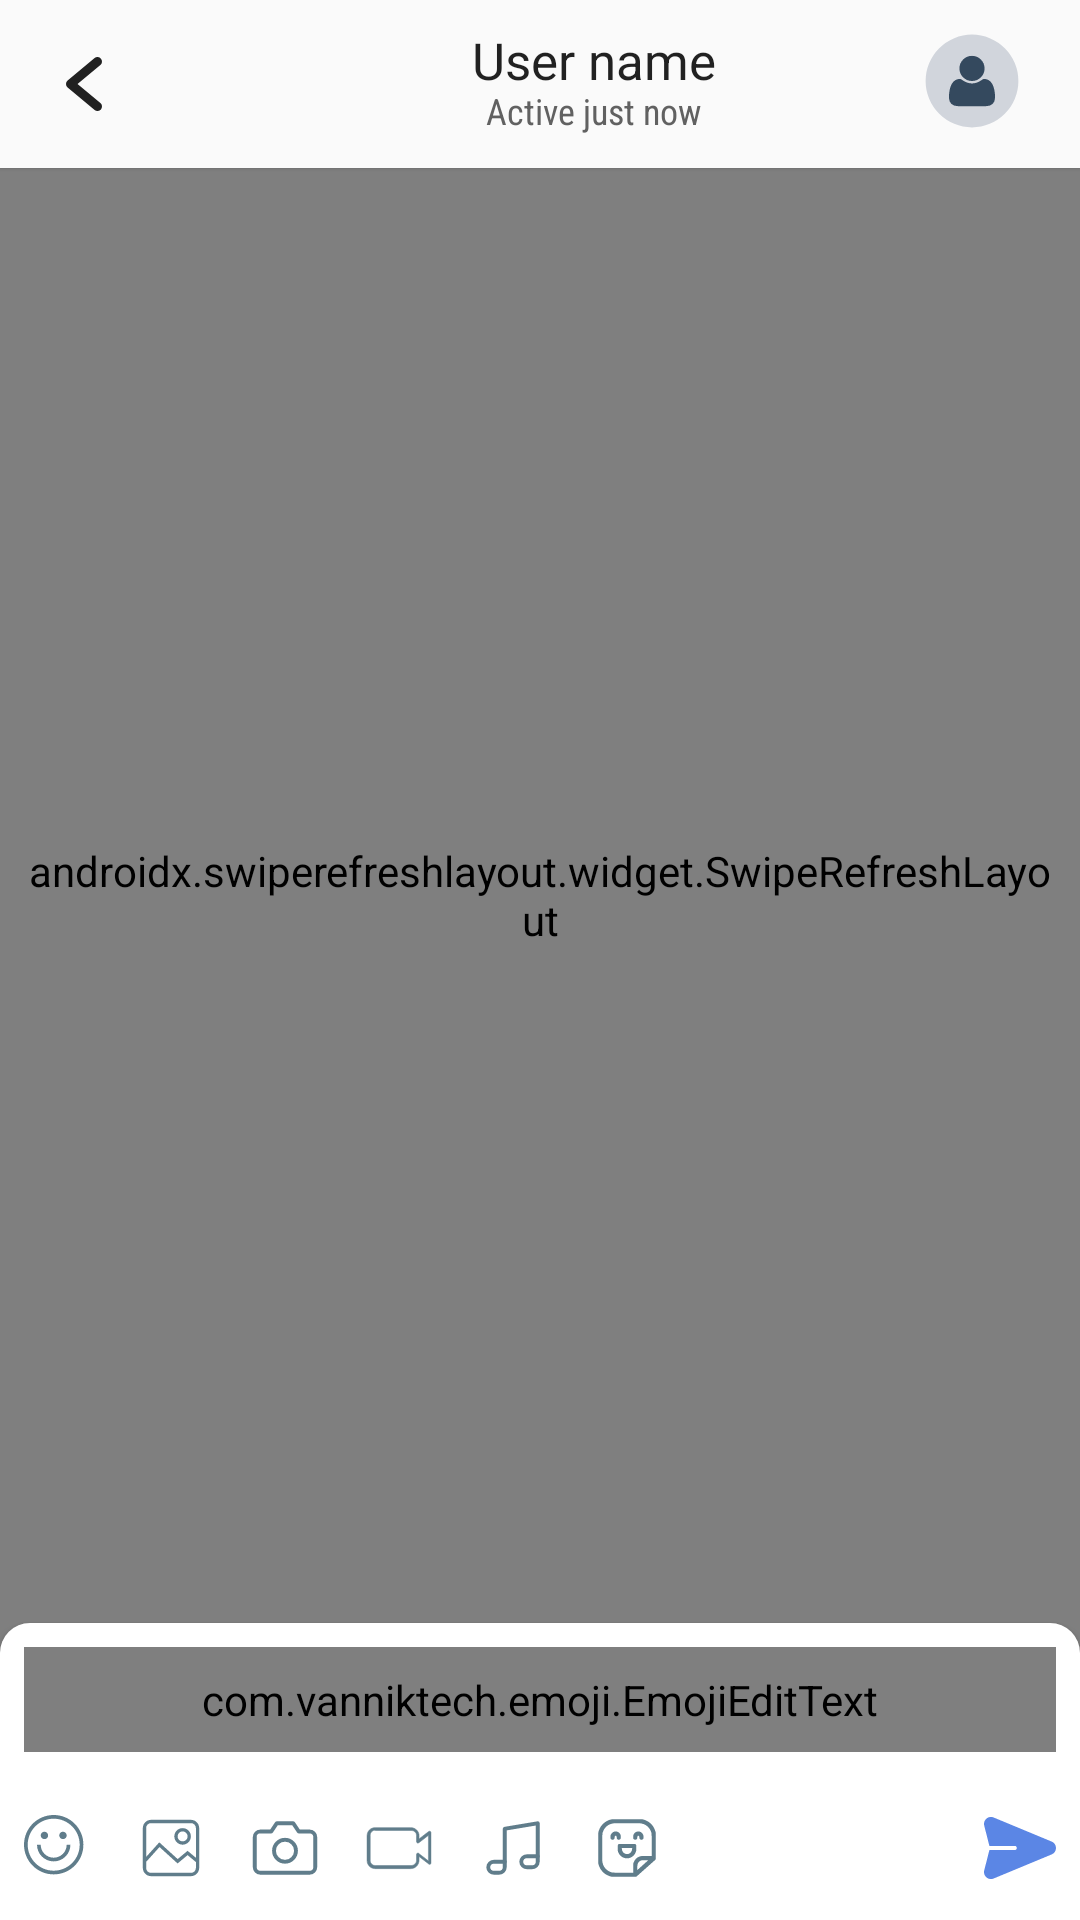

Screen size 1080*1920. Icon name, then its center in pixels as (x=x, y=y):
camera: (x=285, y=1848)
music: (x=513, y=1848)
send: (x=1020, y=1848)
sticker: (x=627, y=1848)
video: (x=399, y=1848)
